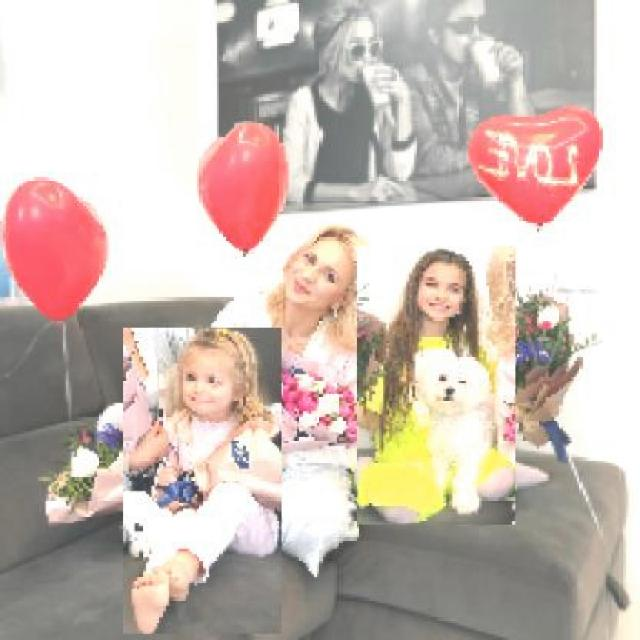adult: (213, 228, 361, 578)
child: (121, 328, 282, 635), (354, 247, 514, 527)
